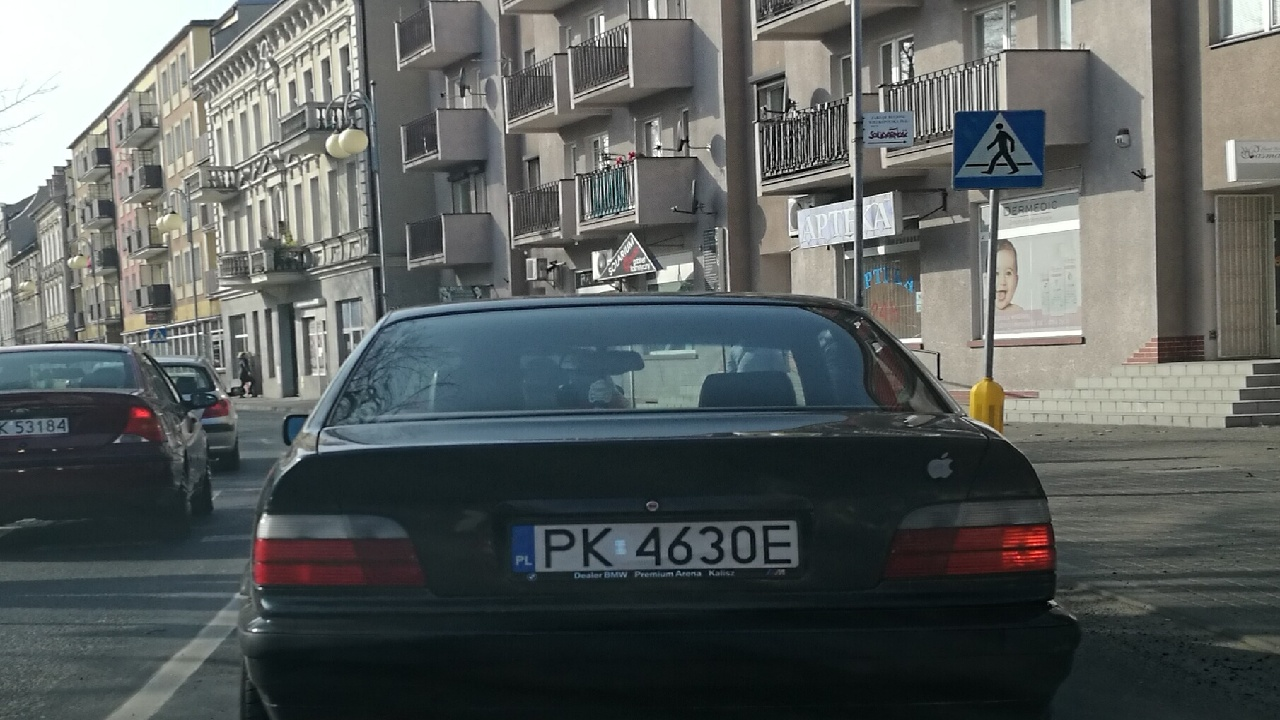D6: (953, 109, 1045, 188)
